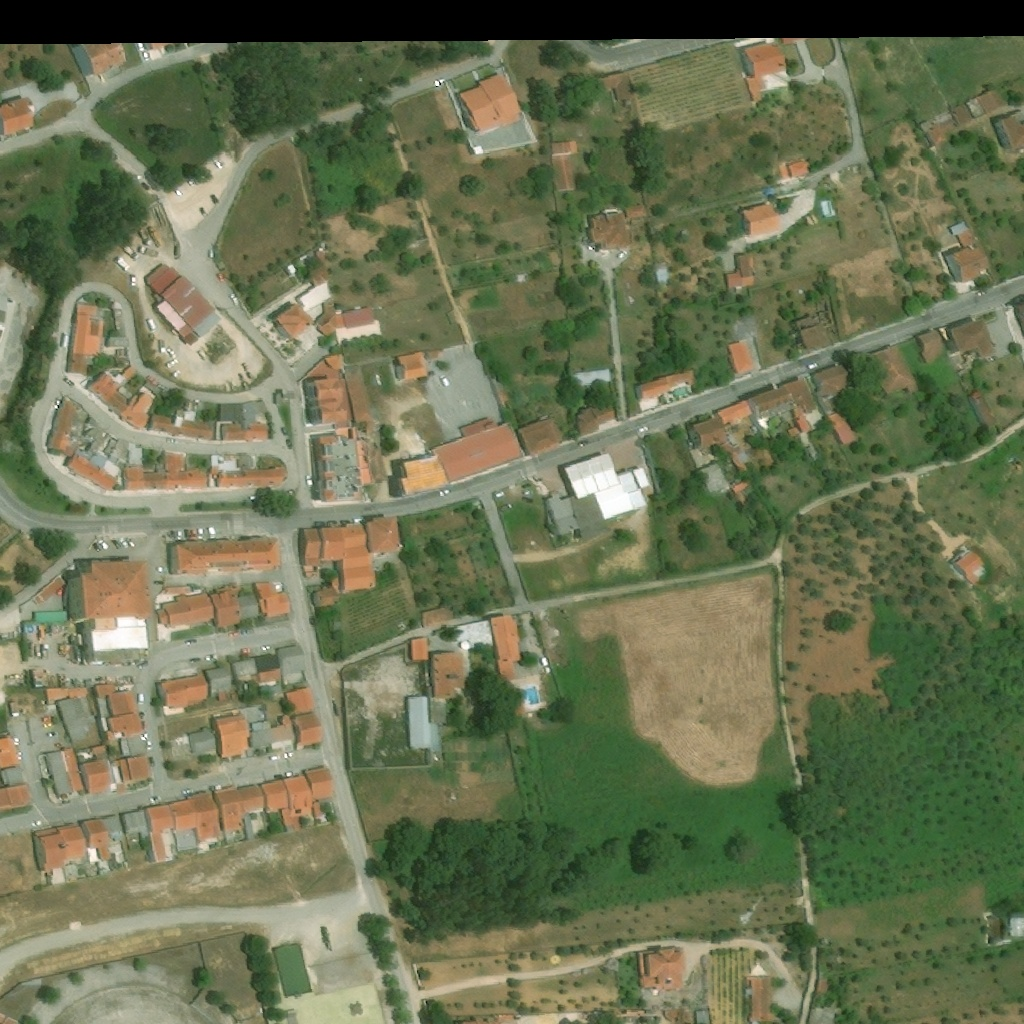0 no-damage: (542, 450, 654, 538), (69, 558, 154, 664), (432, 414, 528, 485), (145, 261, 225, 342), (445, 613, 523, 682), (301, 523, 377, 593), (309, 426, 374, 503), (83, 367, 160, 431), (170, 537, 283, 575), (459, 71, 524, 137), (749, 377, 818, 433), (122, 450, 210, 492), (300, 353, 351, 425), (687, 400, 753, 451), (942, 221, 993, 285), (65, 303, 108, 376), (589, 204, 649, 253), (55, 694, 105, 750), (430, 651, 467, 724), (741, 43, 790, 98), (865, 346, 920, 395), (949, 86, 1009, 128), (211, 454, 284, 488), (213, 785, 266, 831), (72, 36, 129, 78), (66, 450, 120, 493), (638, 945, 686, 991), (210, 585, 260, 627), (44, 747, 87, 795), (948, 317, 997, 358), (145, 802, 179, 860), (158, 592, 214, 627), (637, 368, 696, 401), (148, 414, 216, 442), (158, 673, 210, 709), (213, 711, 251, 760), (516, 416, 562, 456), (48, 398, 80, 455), (251, 714, 296, 753), (744, 963, 773, 1023), (31, 826, 69, 871), (810, 362, 856, 398), (793, 311, 834, 351), (273, 301, 316, 339), (587, 70, 638, 102), (188, 792, 222, 840), (44, 686, 100, 715), (574, 400, 617, 437), (283, 774, 314, 825), (363, 515, 403, 554), (95, 683, 140, 717), (954, 548, 993, 586), (0, 96, 37, 136), (693, 458, 733, 495), (552, 140, 579, 194), (203, 324, 239, 364), (740, 202, 783, 235), (254, 583, 292, 620), (171, 799, 198, 851), (80, 756, 115, 796), (111, 753, 154, 785), (967, 390, 1000, 431), (306, 767, 335, 813), (725, 252, 759, 290), (297, 279, 335, 313), (81, 818, 111, 861), (408, 696, 432, 749), (102, 711, 145, 740), (82, 448, 122, 478), (283, 685, 318, 718), (827, 410, 859, 446), (31, 574, 67, 606), (992, 114, 1023, 150), (727, 339, 757, 376), (294, 712, 324, 749), (59, 822, 88, 860), (110, 733, 147, 762), (915, 329, 946, 362), (0, 782, 35, 811), (395, 351, 429, 380), (279, 644, 309, 676), (204, 665, 233, 695), (188, 728, 217, 757), (571, 368, 611, 389), (313, 311, 343, 339), (262, 779, 289, 810), (0, 734, 23, 770), (222, 424, 270, 441), (256, 654, 283, 684), (342, 307, 377, 330), (122, 809, 149, 838), (311, 586, 341, 609), (423, 605, 454, 627), (234, 659, 259, 685), (103, 815, 122, 846), (807, 1006, 837, 1023), (1, 766, 25, 786), (650, 263, 669, 287), (219, 403, 244, 421), (788, 159, 811, 177), (411, 637, 429, 660), (243, 401, 258, 421), (256, 399, 269, 417), (273, 390, 287, 406), (817, 978, 829, 993), (93, 745, 106, 754)
4 un-classified: (0, 294, 18, 377), (453, 1014, 515, 1023), (1009, 915, 1023, 939), (681, 1007, 697, 1023), (0, 1012, 19, 1023), (696, 1008, 709, 1023)
